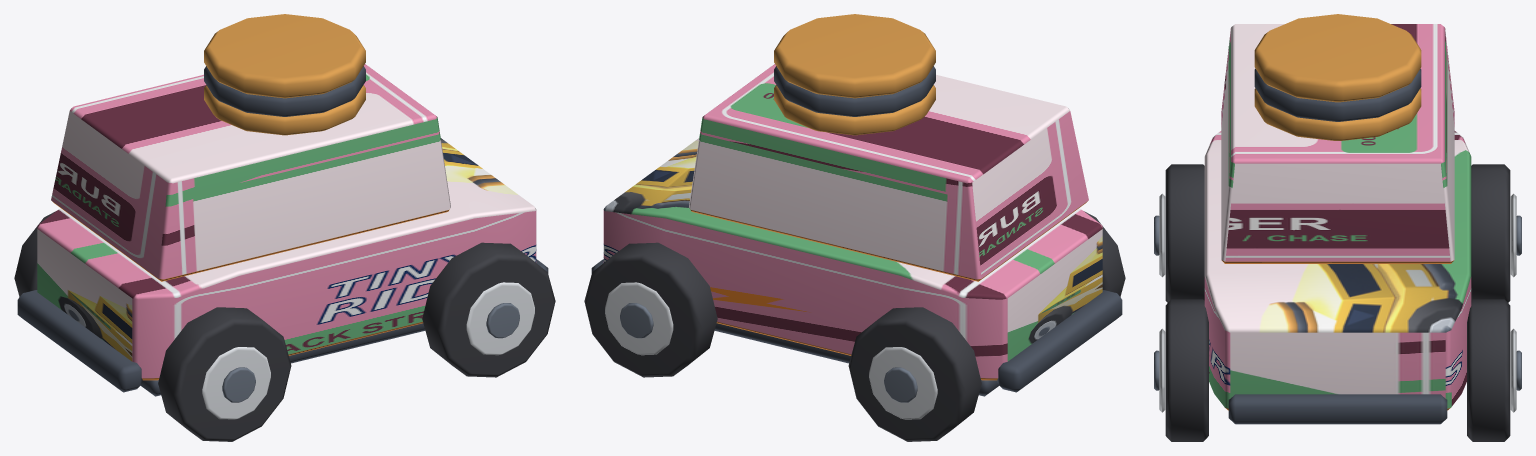
3 renders of one model, left to right at view 1: azimuth 30°, elevation 25°; view 2: azimuth 150°, elevation 25°; view 3: azimuth 270°, elevation 25°, orthographic. The views are drawn at different scales.
Parts seen in each view (by area): view 1: SS-03_cabin, SS-03_connected_shell, burger layer.002, Tire, Tire.002, front bumper, burger layer.001, burger layer, Rim, Rim.002, underbody, Tire.001 (+2 smaller); view 2: SS-03_cabin, SS-03_connected_shell, burger layer.002, Tire.001, Tire.003, front bumper, burger layer.001, burger layer, Rim.001, Rim.003, underbody, Tire (+2 smaller); view 3: SS-03_connected_shell, SS-03_cabin, burger layer.002, rear bumper, Tire.002, Tire.003, Tire, Tire.001, burger layer.001, burger layer, Rim, Rim.001 (+2 smaller).
Boxes of the visible parts, x1=… form: SS-03_cabin: x1=51, y1=64, x2=450, y2=281; SS-03_connected_shell: x1=37, y1=138, x2=536, y2=380; burger layer.002: x1=204, y1=14, x2=365, y2=98; Tire: x1=158, y1=307, x2=291, y2=441; Tire.002: x1=422, y1=242, x2=555, y2=377; front bumper: x1=17, y1=290, x2=142, y2=392; burger layer.001: x1=204, y1=66, x2=365, y2=116; burger layer: x1=204, y1=85, x2=365, y2=135; Rim: x1=202, y1=347, x2=270, y2=419; Rim.002: x1=466, y1=282, x2=534, y2=355; underbody: x1=140, y1=323, x2=425, y2=396; Tire.001: x1=14, y1=211, x2=55, y2=296; SS-03_cabin: x1=689, y1=64, x2=1088, y2=281; SS-03_connected_shell: x1=603, y1=138, x2=1102, y2=380; burger layer.002: x1=774, y1=14, x2=935, y2=98; Tire.001: x1=848, y1=307, x2=981, y2=441; Tire.003: x1=584, y1=242, x2=717, y2=377; front bumper: x1=997, y1=290, x2=1122, y2=392; burger layer.001: x1=774, y1=66, x2=935, y2=116; burger layer: x1=774, y1=85, x2=935, y2=135; Rim.001: x1=869, y1=347, x2=937, y2=419; Rim.003: x1=605, y1=282, x2=673, y2=355; underbody: x1=714, y1=323, x2=999, y2=396; Tire: x1=1084, y1=211, x2=1125, y2=296; SS-03_connected_shell: x1=1204, y1=131, x2=1471, y2=410; SS-03_cabin: x1=1221, y1=24, x2=1454, y2=263; burger layer.002: x1=1254, y1=14, x2=1421, y2=102; rear bumper: x1=1228, y1=394, x2=1447, y2=424; Tire.002: x1=1165, y1=299, x2=1208, y2=441; Tire.003: x1=1467, y1=299, x2=1510, y2=441; Tire: x1=1165, y1=164, x2=1204, y2=302; Tire.001: x1=1471, y1=164, x2=1510, y2=302; burger layer.001: x1=1254, y1=68, x2=1421, y2=121; burger layer: x1=1254, y1=88, x2=1421, y2=140; Rim: x1=1159, y1=193, x2=1165, y2=277; Rim.001: x1=1510, y1=193, x2=1516, y2=277.
Size of the model in its own units: 314 by 213 by 221.
